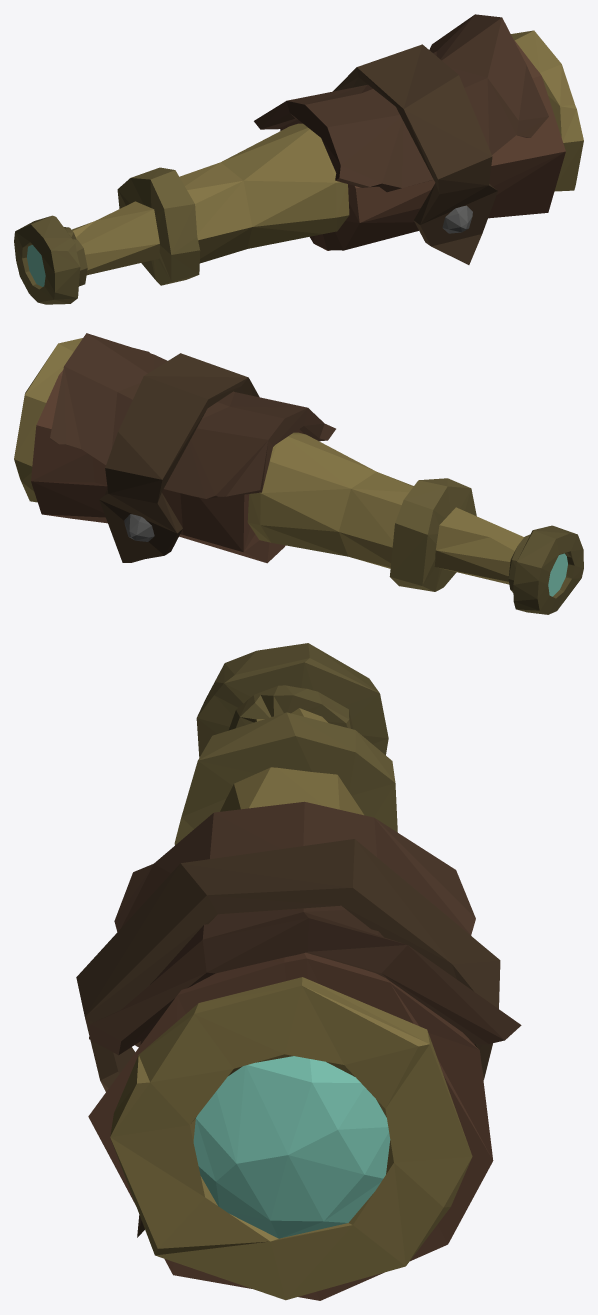
File: Telescope_001.fbx
3 views of the same model, one above another, from view 1: azimuth 30°, elevation 25°; view 2: azimuth 150°, elevation 25°; view 3: azimuth 270°, elevation 25° (orthographic). The views are drawn at different scales.
Visible parts, largest first — view 1: Telescope_001; view 2: Telescope_001; view 3: Telescope_001.
Part boxes in pixels (x1=…): Telescope_001: x1=14, y1=14, x2=583, y2=304; Telescope_001: x1=14, y1=333, x2=583, y2=614; Telescope_001: x1=76, y1=643, x2=521, y2=1300.
Bounding box in the file's own units: 26.8 × 9.84 × 10.09.
